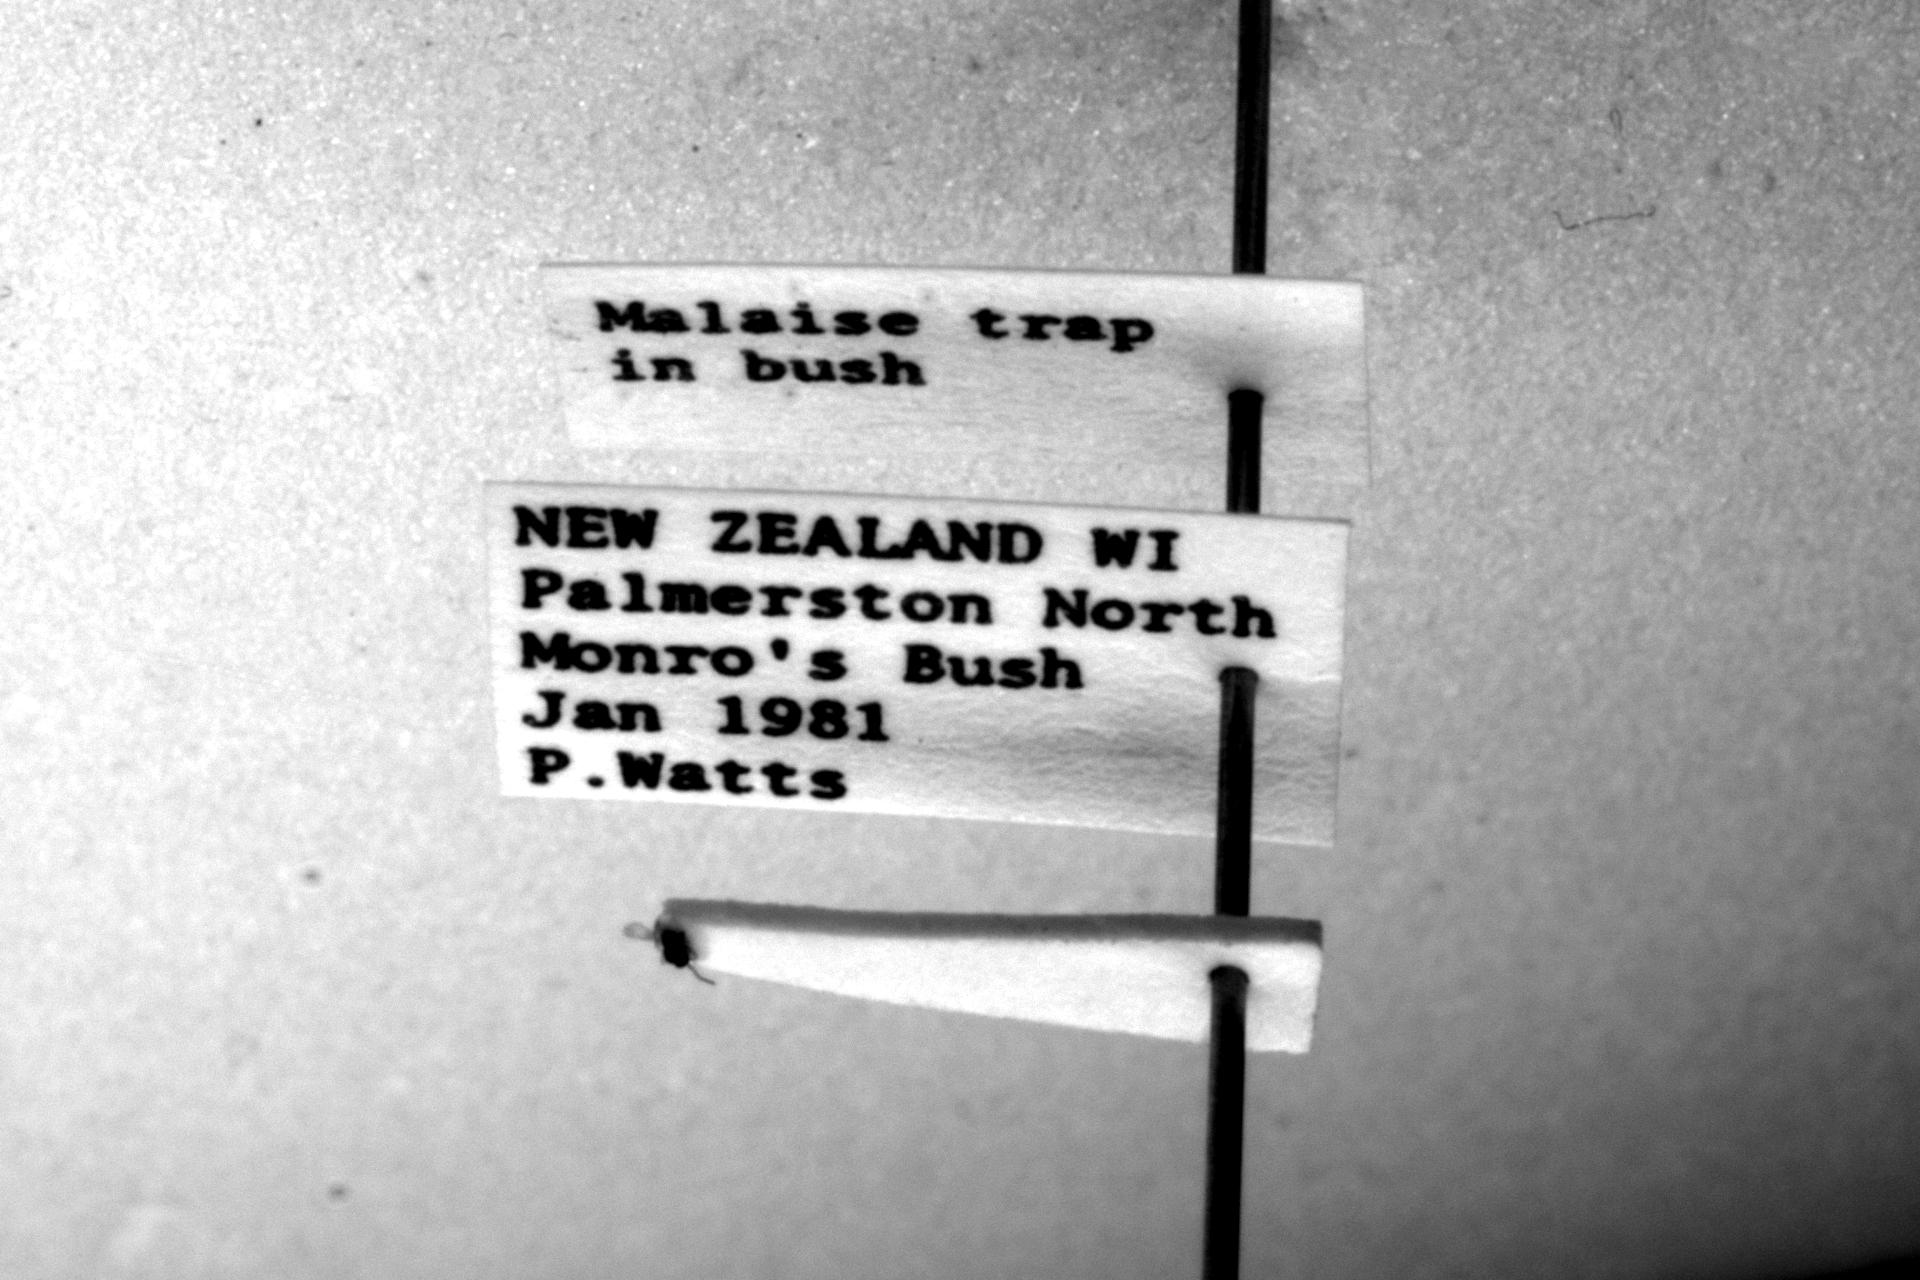typed_label: (488, 484, 1346, 844), (544, 266, 1369, 480)
